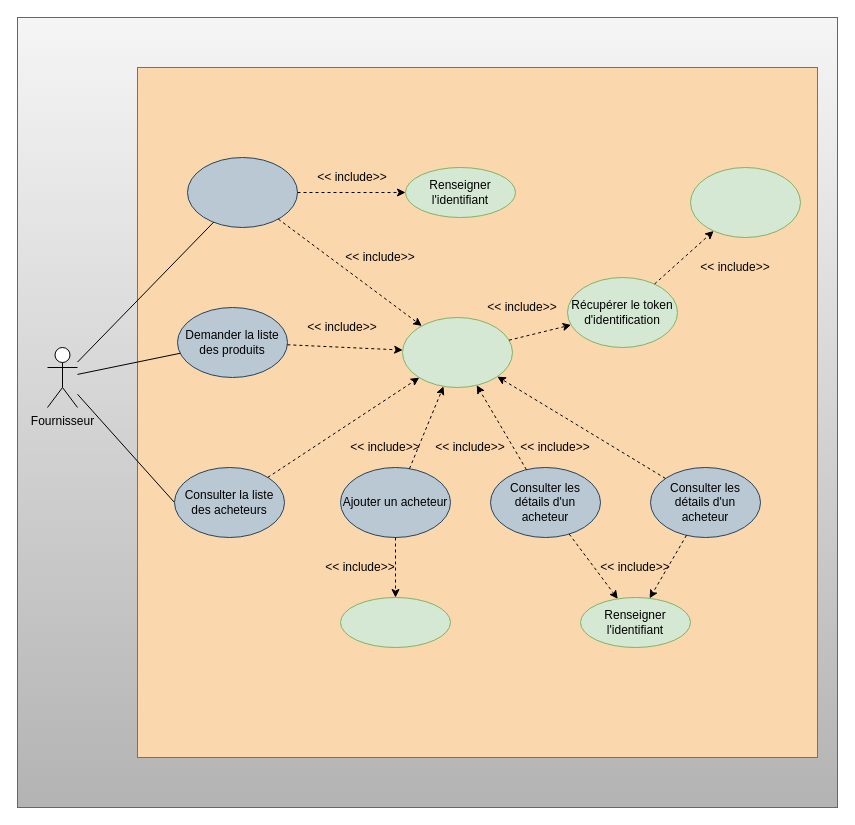
The diagram is 855 pixels wide and 825 high, and some of its shapes have lost their labels. The centre of each missing label's shape, as x and y in pixels:
"Demander les détails d'un produit" belongs at pixel 242 192.
"Fournir le token d'identification" belongs at pixel 457 352.
"Fournir les informations" belongs at pixel 395 622.
"Être inscrit" belongs at pixel 745 202.
